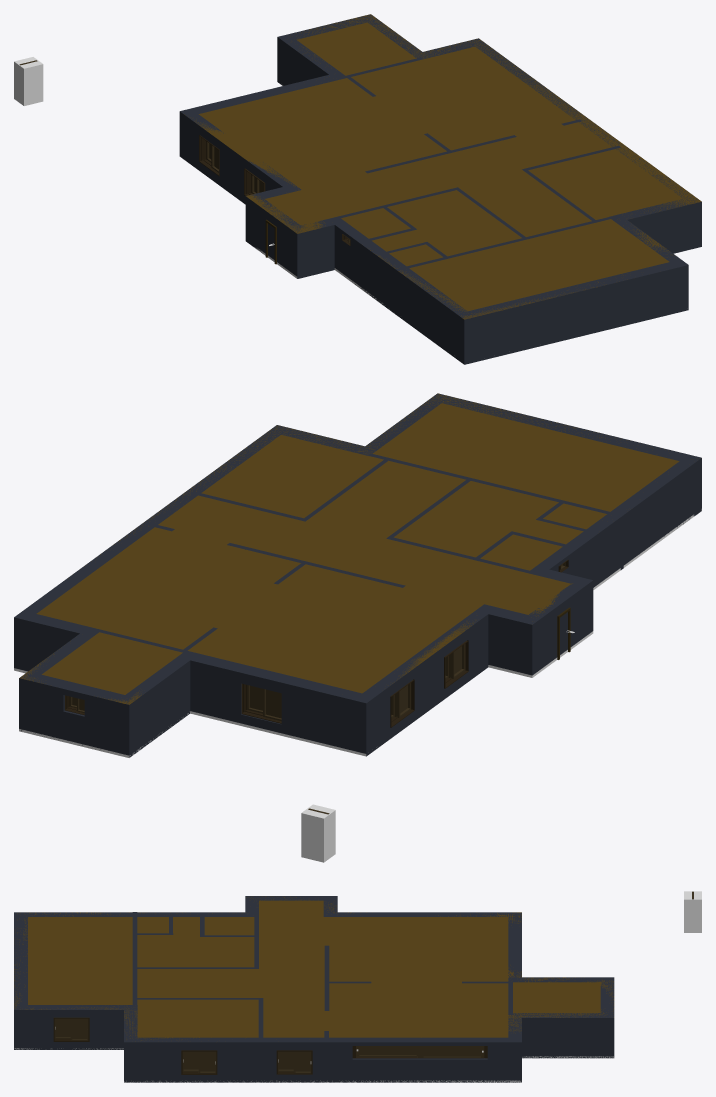
The model's file is FBXhouseMapModel 1.fbx.
3 views of the same model, one above another, from view 1: azimuth 30°, elevation 25°; view 2: azimuth 150°, elevation 25°; view 3: azimuth 270°, elevation 25° (orthographic). The views are drawn at different scales.
Visible parts, largest first — view 1: Ceiling, Room.009, Cube.002, Room.001, Room.003; view 2: Ceiling, Room.009, Cube.002, Baseboard, Room.001, Room.003; view 3: Ceiling, Room.009, Window.R.004, Cube.002, Window.L.004, Baseboard, Room.001, Room.003, Window.R.006, Window.R.007, Window.R.005, Room.006 (+4 smaller).
Boxes of the visible parts, <box> form: Ceiling: <box>184,14,701,319</box>; Room.009: <box>179,14,701,364</box>; Cube.002: <box>14,57,43,105</box>; Room.001: <box>395,217,611,315</box>; Room.003: <box>327,187,527,239</box>; Ceiling: <box>19,393,679,704</box>; Room.009: <box>14,393,701,757</box>; Cube.002: <box>301,804,335,862</box>; Baseboard: <box>14,509,701,757</box>; Room.001: <box>368,453,623,569</box>; Room.003: <box>386,478,542,575</box>; Ceiling: <box>14,896,614,1041</box>; Room.009: <box>14,896,614,1082</box>; Window.R.004: <box>417,1046,484,1057</box>; Cube.002: <box>684,891,701,932</box>; Window.L.004: <box>356,1046,417,1056</box>; Baseboard: <box>14,1048,613,1082</box>; Room.001: <box>132,912,137,1005</box>; Room.003: <box>134,912,258,968</box>; Window.R.006: <box>198,1051,216,1073</box>; Window.R.007: <box>71,1018,88,1040</box>; Window.R.005: <box>294,1051,311,1073</box>; Room.006: <box>324,945,329,1010</box>.
Size of the model in its own units: 4419 by 532 by 8082.
